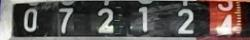digits: (214, 1, 236, 38), (134, 6, 155, 38), (176, 8, 194, 34), (97, 8, 114, 33), (58, 7, 73, 33), (23, 8, 38, 32)
